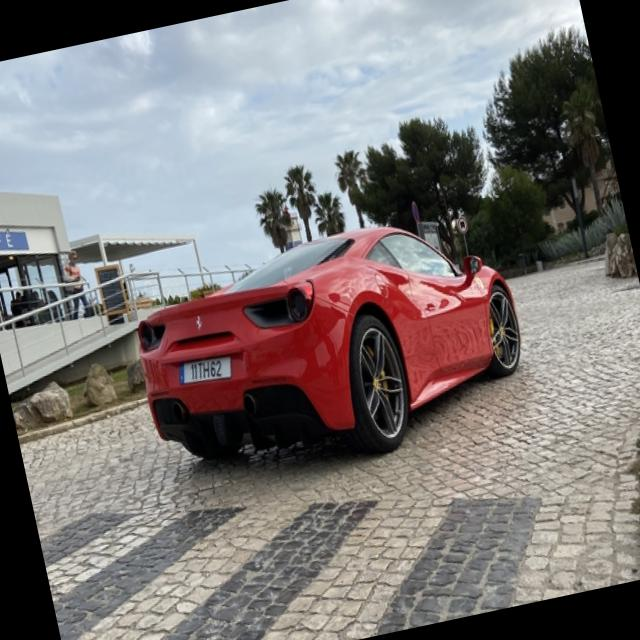portuguese-license-plates: (177, 354, 232, 386)
